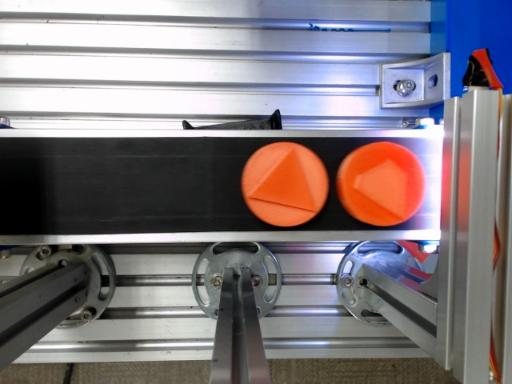Orange_Waper: (337, 142, 425, 226), (242, 142, 328, 226)
